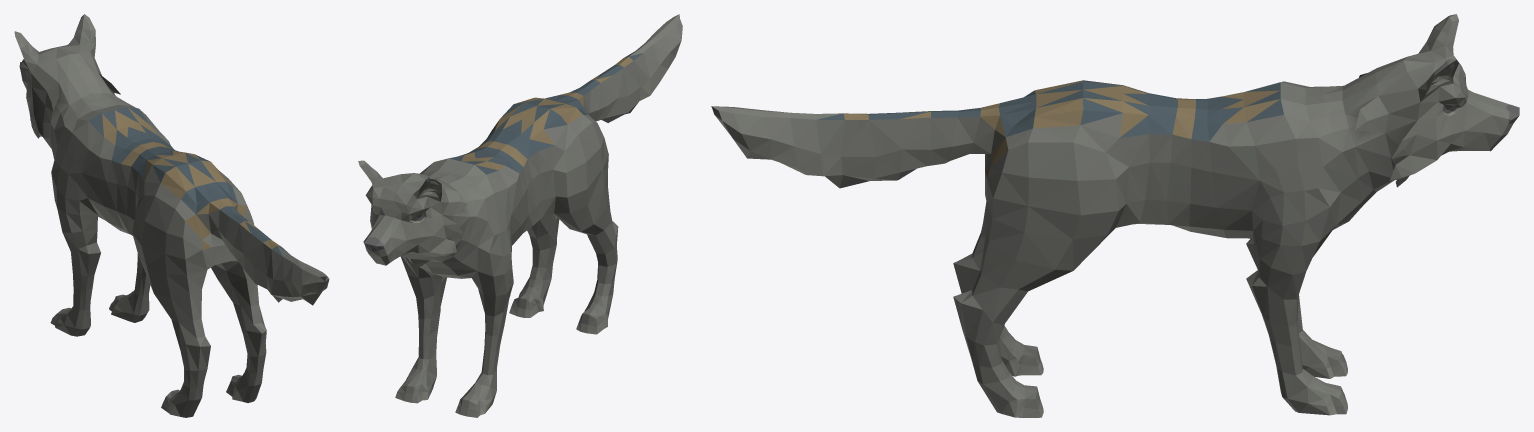
The model's file is k7-wolf.glb.
3 renders of one model, left to right at view 1: azimuth 30°, elevation 25°; view 2: azimuth 150°, elevation 25°; view 3: azimuth 270°, elevation 25°, orthographic. The views are drawn at different scales.
Visible parts, largest first — view 1: Wolf; view 2: Wolf; view 3: Wolf.
Boxes of the visible parts, x1,y1,x2,y2 form: Wolf: (14, 14, 329, 417); Wolf: (358, 14, 682, 417); Wolf: (711, 14, 1519, 417).
Bounding box in the file's own units: 0.4728 × 1.19 × 2.46.
